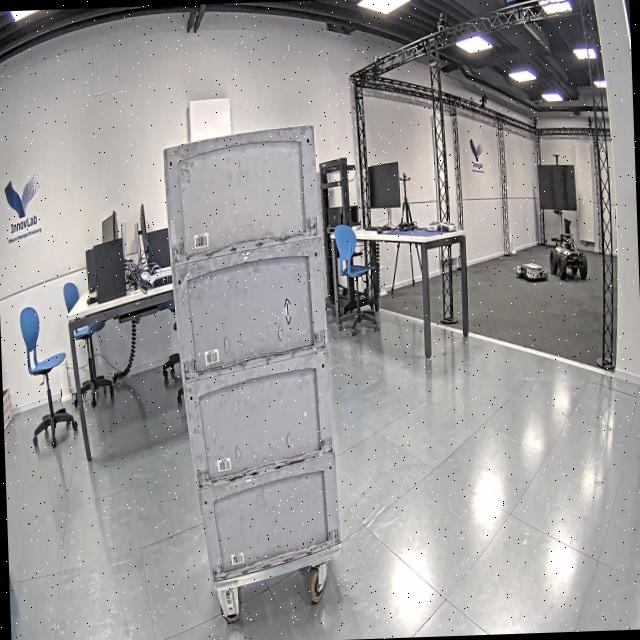Box4G: (160, 122, 346, 589)
